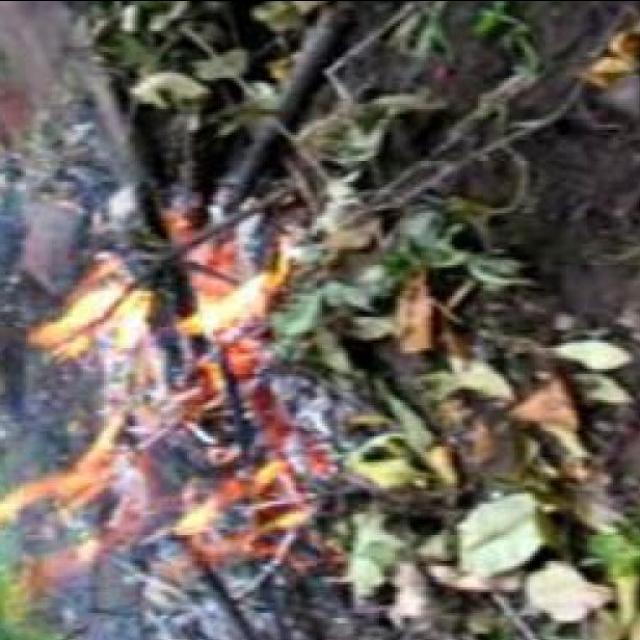Fire: (23, 230, 292, 592)
